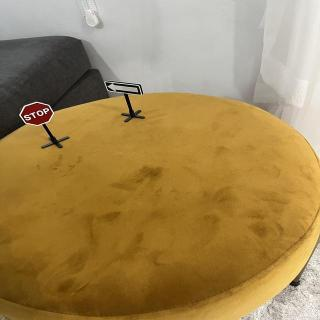sign_oneway_left: (104, 80, 147, 99)
sign_stop: (20, 101, 56, 128)
